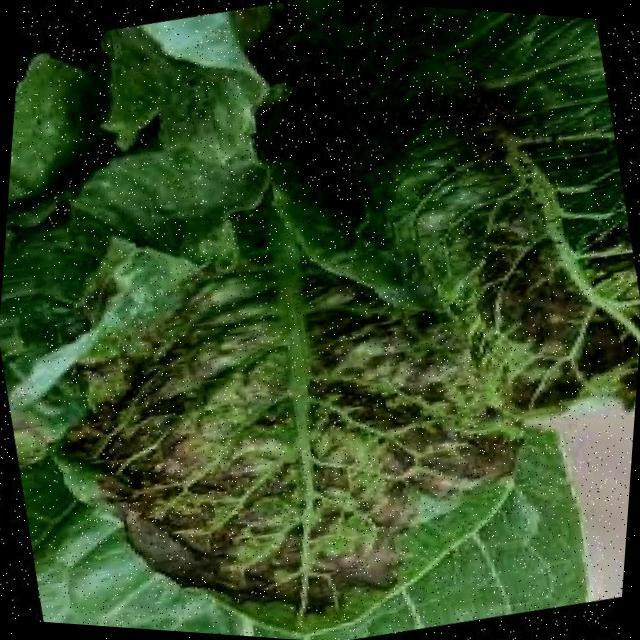Lettuce Mosaic Virus: (395, 40, 640, 433), (95, 338, 418, 615)
